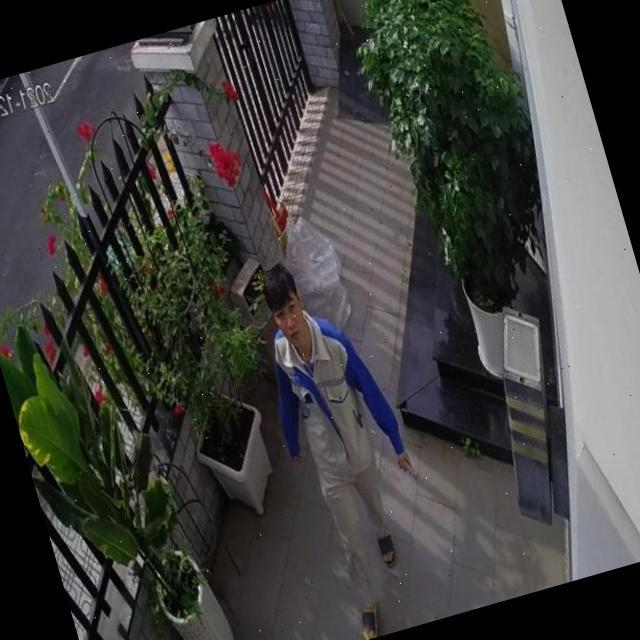person: (239, 242, 453, 640)
